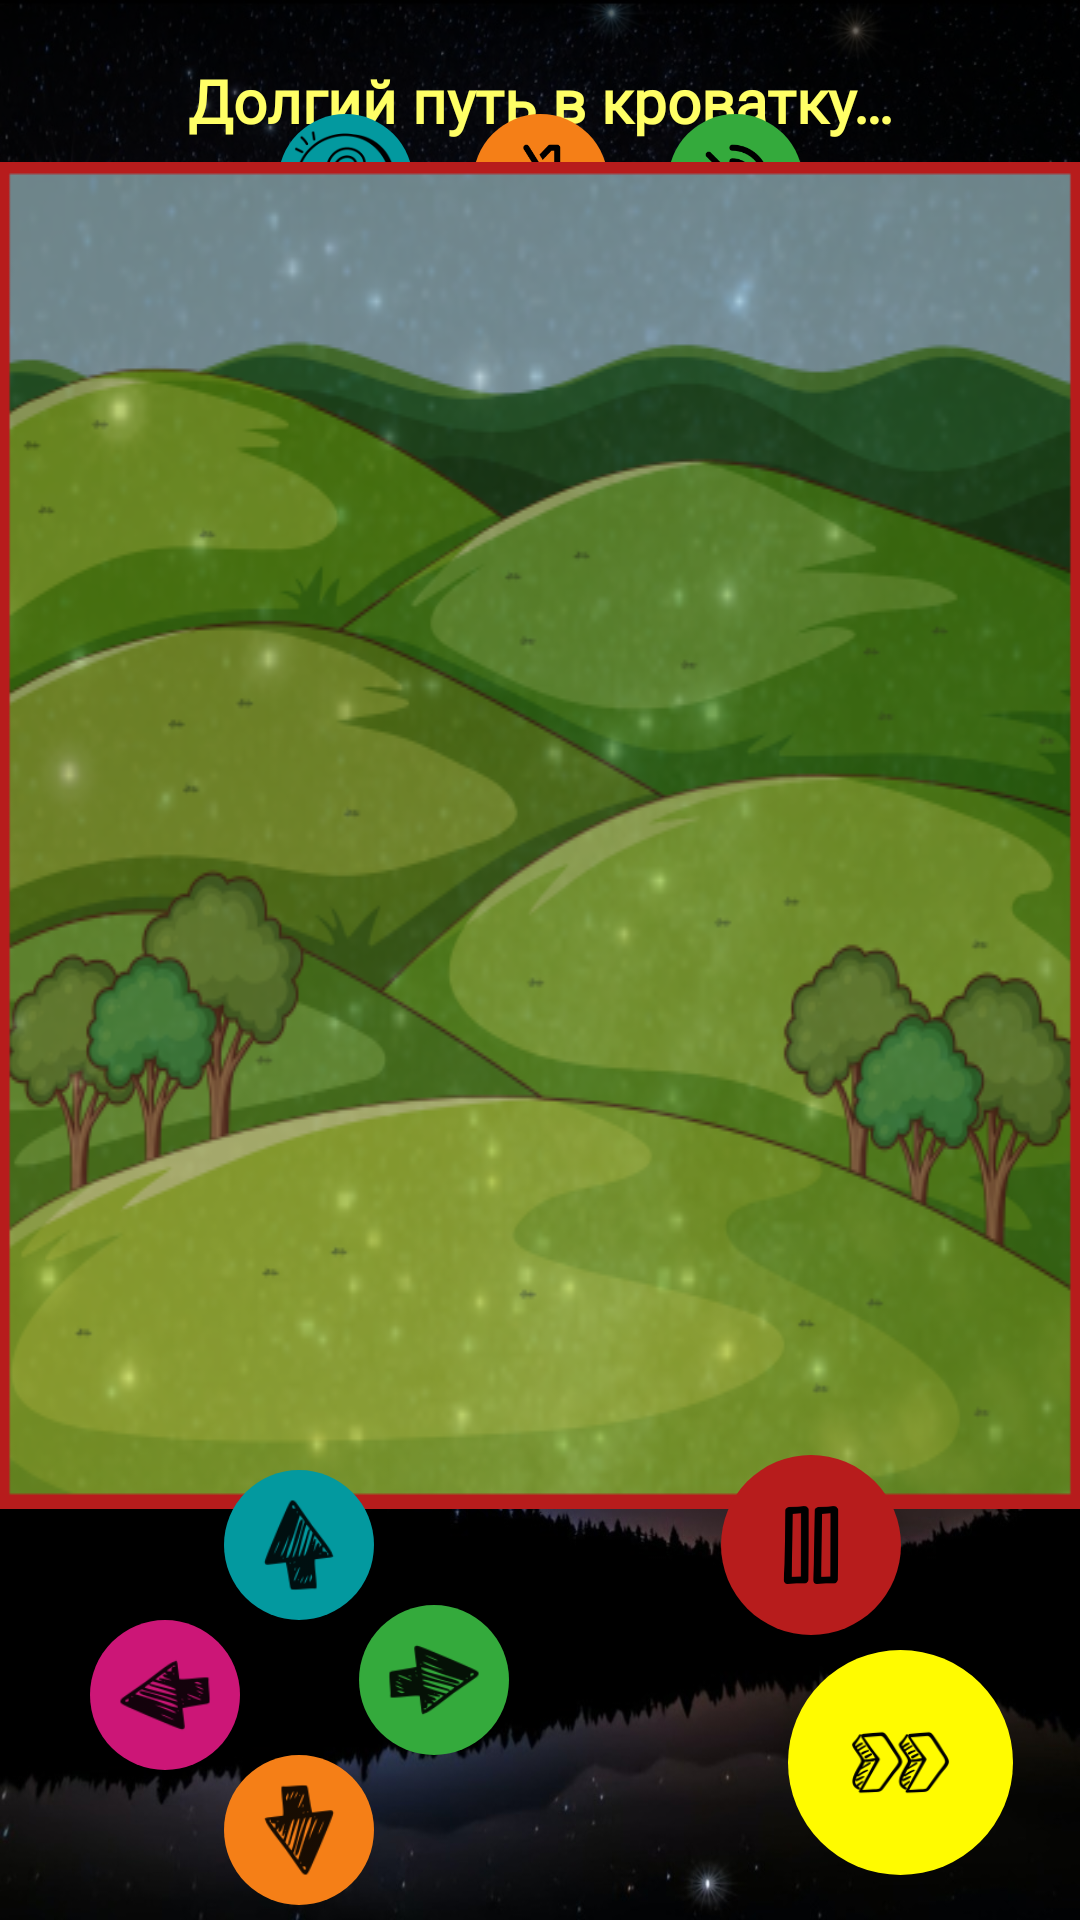

Named icons in this screenshot (1080x1920) and their centers, point (x, y):
button play up: point (299, 1545)
pause: point (811, 1545)
speed up: point (900, 1762)
